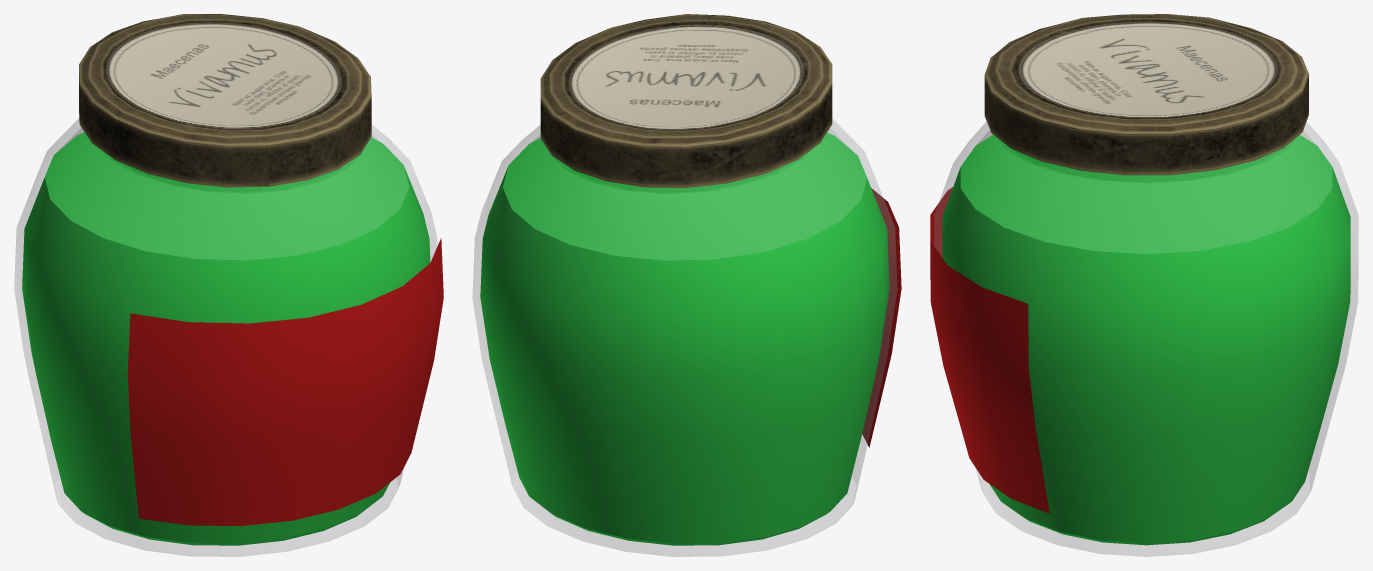
Rendered from vaso pesto.fbx.
3 renders of one model, left to right at view 1: azimuth 30°, elevation 25°; view 2: azimuth 150°, elevation 25°; view 3: azimuth 270°, elevation 25°, orthographic.
Parts seen in each view (by area): view 1: vaso, pesto, etichetta, cap; view 2: vaso, pesto, cap, etichetta; view 3: vaso, pesto, cap, etichetta.
Boxes of the visible parts, box(x1,y1,x2,y2) form: vaso: box(14, 119, 437, 556); pesto: box(22, 132, 430, 545); etichetta: box(127, 238, 443, 526); cap: box(79, 14, 371, 187); vaso: box(472, 119, 897, 556); pesto: box(480, 133, 889, 545); cap: box(540, 14, 832, 187); etichetta: box(862, 188, 901, 447); vaso: box(934, 121, 1358, 556); pesto: box(942, 135, 1350, 545); cap: box(984, 14, 1308, 175); etichetta: box(930, 187, 1049, 513).
Bounding box in the file's own units: 17.11 × 18.33 × 17.17.
